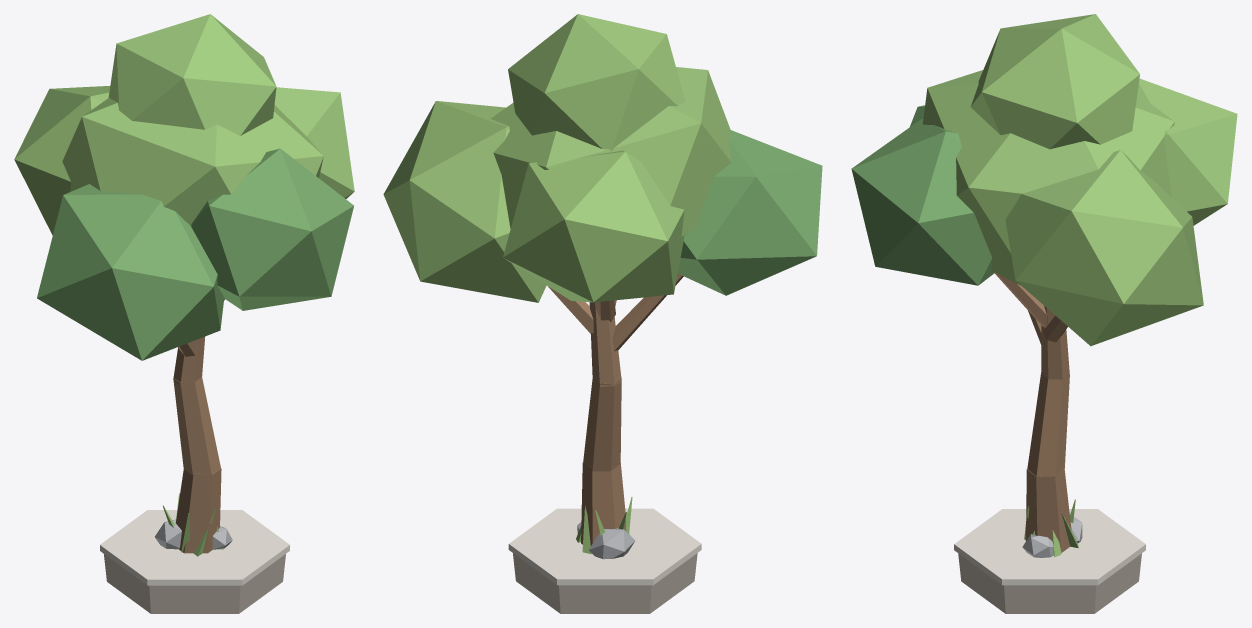
The model's file is LP_StreetTree.fbx.
3 views of the same model, side by side, from view 1: azimuth 30°, elevation 25°; view 2: azimuth 150°, elevation 25°; view 3: azimuth 270°, elevation 25° (orthographic).
Visible parts, largest first — view 1: TreeCanopy_W, TreeCanopy_S, TreeCanopy_Center, TreeCanopy_Top, TrimTop, TreeCanopy_N, Curb, TreeCanopy_E, Trunk_Seg1, Trunk_Seg0, Trunk_Seg2, Rock_A; view 2: TreeCanopy_N, TreeCanopy_E, TreeCanopy_Top, TreeCanopy_W, TreeCanopy_Center, TrimTop, Curb, Trunk_Seg1, Trunk_Seg0, Trunk_Seg2, Branch_0, Rock_A (+1 smaller); view 3: TreeCanopy_E, TreeCanopy_Top, TreeCanopy_Center, TreeCanopy_S, TrimTop, TreeCanopy_N, Curb, Trunk_Seg1, Trunk_Seg0, Trunk_Seg2, Branch_2, Rock_B.
Boxes of the visible parts, box(x1,y1,x2,y2) form: TreeCanopy_W: box(37, 184, 224, 360); TreeCanopy_S: box(191, 148, 353, 310); TreeCanopy_Center: box(62, 98, 323, 226); TreeCanopy_Top: box(108, 14, 276, 135); TrimTop: box(100, 510, 289, 585); TreeCanopy_N: box(14, 86, 110, 235); Curb: box(104, 554, 285, 613); TreeCanopy_E: box(274, 87, 354, 198); Trunk_Seg1: box(173, 377, 220, 475); Trunk_Seg0: box(175, 468, 221, 553); Trunk_Seg2: box(173, 336, 205, 385); Rock_A: box(155, 519, 181, 549); TreeCanopy_N: box(503, 150, 684, 302); TreeCanopy_E: box(383, 101, 546, 302); TreeCanopy_Top: box(508, 14, 685, 151); TreeCanopy_W: box(677, 129, 822, 295); TreeCanopy_Center: box(490, 67, 731, 236); TrimTop: box(508, 508, 701, 585); Curb: box(513, 553, 697, 613); Trunk_Seg1: box(583, 376, 621, 471); Trunk_Seg0: box(581, 462, 625, 545); Trunk_Seg2: box(589, 302, 621, 386); Branch_0: box(612, 274, 683, 351); Rock_A: box(589, 528, 635, 559); TreeCanopy_E: box(1005, 150, 1203, 346); TreeCanopy_Top: box(971, 14, 1139, 149); TreeCanopy_Center: box(922, 70, 1174, 285); TreeCanopy_S: box(851, 119, 994, 285); TrimTop: box(954, 509, 1145, 585); TreeCanopy_N: box(1137, 78, 1237, 225); Curb: box(958, 553, 1141, 613); Trunk_Seg1: box(1027, 372, 1069, 479); Trunk_Seg0: box(1026, 468, 1071, 552); Trunk_Seg2: box(1041, 306, 1069, 379); Branch_2: box(994, 272, 1047, 327); Rock_B: box(1022, 534, 1053, 557).
Bounding box in the file's own units: 3.84 × 5.6 × 3.48.
